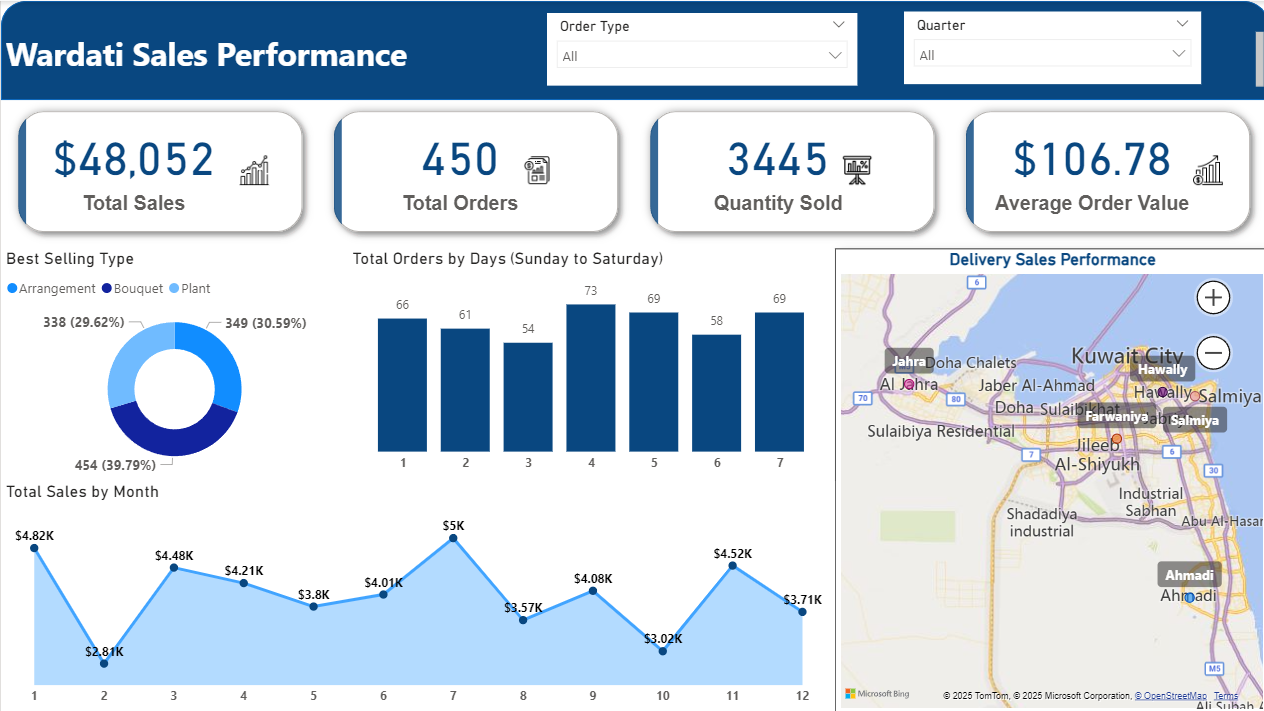

The page's visual inventory and layout, read from the dashboard file:
{"tool":"powerbi","page":{"name":"Page 1","canvas":[1280,720],"ordinal":0},"visuals":[{"type":"cardVisual","fields":{"Data":["sales.Total Sales","sales.Total Orders","order_detail.Quantity Sold","sales.Average Order Value"]},"box":[0,93.3,1280,156.7],"z":0},{"type":"shape","box":[0,0,1280,100],"z":1000},{"type":"textbox","box":[0,25,1280,150],"z":2000},{"type":"map","title":"Delivery Sales Performance","fields":{"Category":["delivery.delivery_city","delivery.country"]},"box":[841.7,250,438.3,470],"z":3000},{"type":"slicer","fields":{"Values":["sales.order_type"]},"box":[551.7,11.7,313.3,73.3],"z":4000},{"type":"stackedAreaChart","title":"Total Sales by Month","fields":{"Category":["sales.Month Order"],"Y":["sales.Total Sales"]},"box":[0,484.5,841.9,234.7],"z":5000},{"type":"clusteredColumnChart","title":"Total Orders by Days","fields":{"Y":["sales.Total Orders"],"Category":["sales.Day Order"]},"box":[349.8,249.8,492.1,234.7],"z":5001},{"type":"donutChart","title":"Best Selling Type","fields":{"Y":["order_detail.Arrangement Count","order_detail.Bouquet Count","order_detail.Plant Count"]},"box":[0,249.8,349.8,234.7],"z":5002},{"type":"slicer","fields":{"Values":["sales.Quarter"]},"box":[910.9,10.9,300,73.4],"z":5003}]}

Visuals, with their boxes in screenshot pixels (x1, y1, x2, y2), scaled from the page's 1280x720 canvas onto the 1264x711 screenshot:
cardVisual - sales.Total Sales x sales.Total Orders: (0, 92, 1263, 247)
shape: (0, 0, 1263, 99)
textbox: (0, 25, 1263, 173)
"Delivery Sales Performance" map: (831, 247, 1263, 710)
slicer - sales.order_type: (545, 12, 854, 84)
"Total Sales by Month" stackedAreaChart: (0, 478, 831, 710)
"Total Orders by Days" clusteredColumnChart: (345, 247, 831, 478)
"Best Selling Type" donutChart: (0, 247, 345, 478)
slicer - sales.Quarter: (900, 11, 1196, 83)
